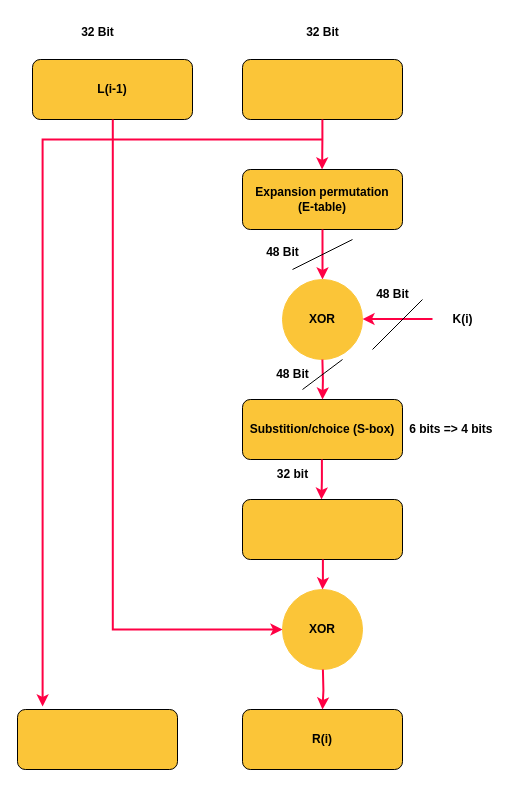
Some shapes in this 525 by 787 pixel diagram are drawn without their labels. Each missing label, with the box of its shape:
L(i): (16, 708, 178, 770)
Permutation(P): (242, 498, 402, 560)
R(i-1): (242, 58, 402, 120)
